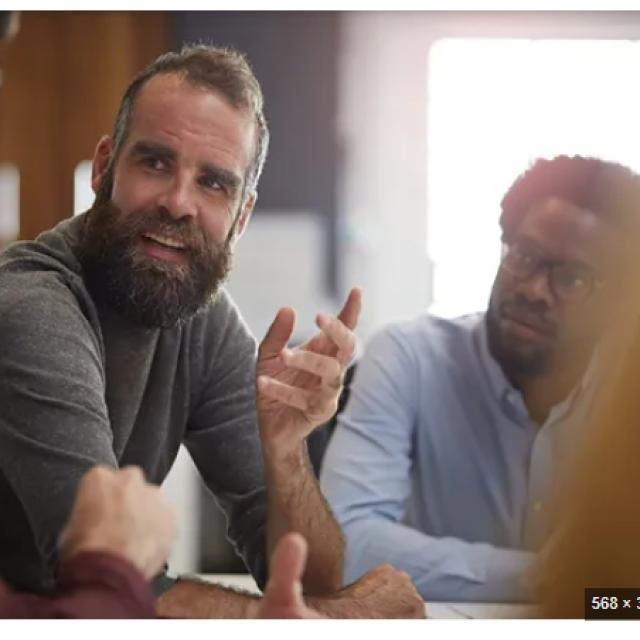face_no_mask: (92, 80, 252, 305), (482, 214, 625, 370)
